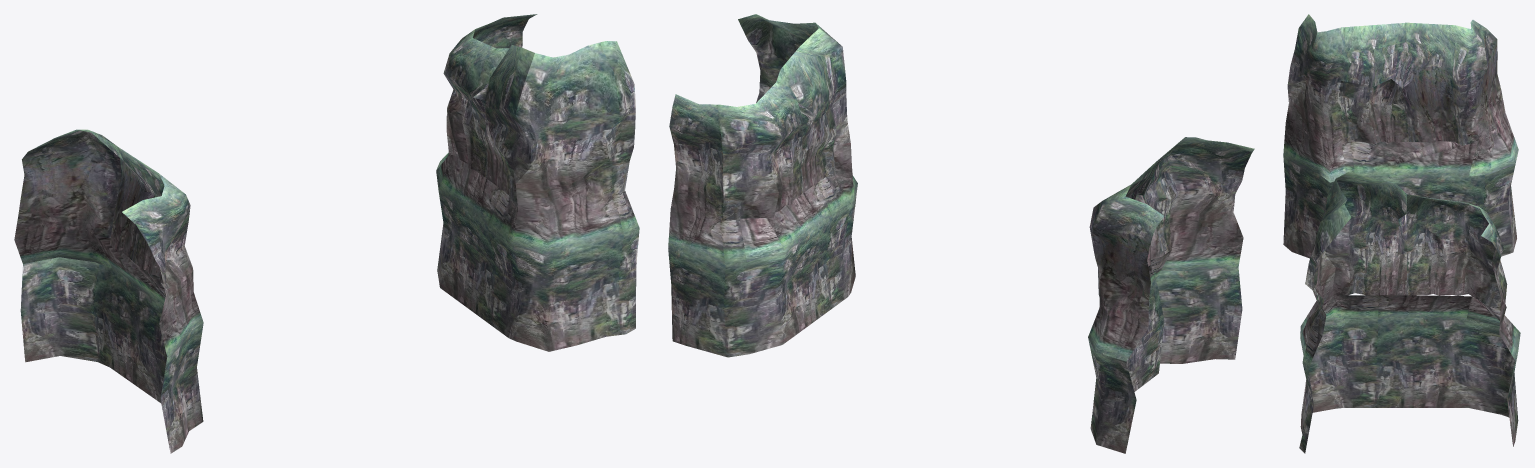
Rendered from Loft01.obj.
3 views of the same model, side by side, from view 1: azimuth 30°, elevation 25°; view 2: azimuth 150°, elevation 25°; view 3: azimuth 270°, elevation 25° (orthographic). The views are drawn at different scales.
Visible parts, largest first — view 1: Loft01; view 2: Loft01; view 3: Loft01.
Boxes of the visible parts, x1,y1,x2,y2 form: Loft01: (14, 14, 639, 453); Loft01: (668, 14, 1254, 453); Loft01: (1283, 14, 1520, 453).
Size of the model in its own units: 5132 by 2597 by 2249.
